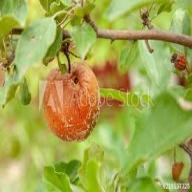apple: (42, 56, 98, 144)
